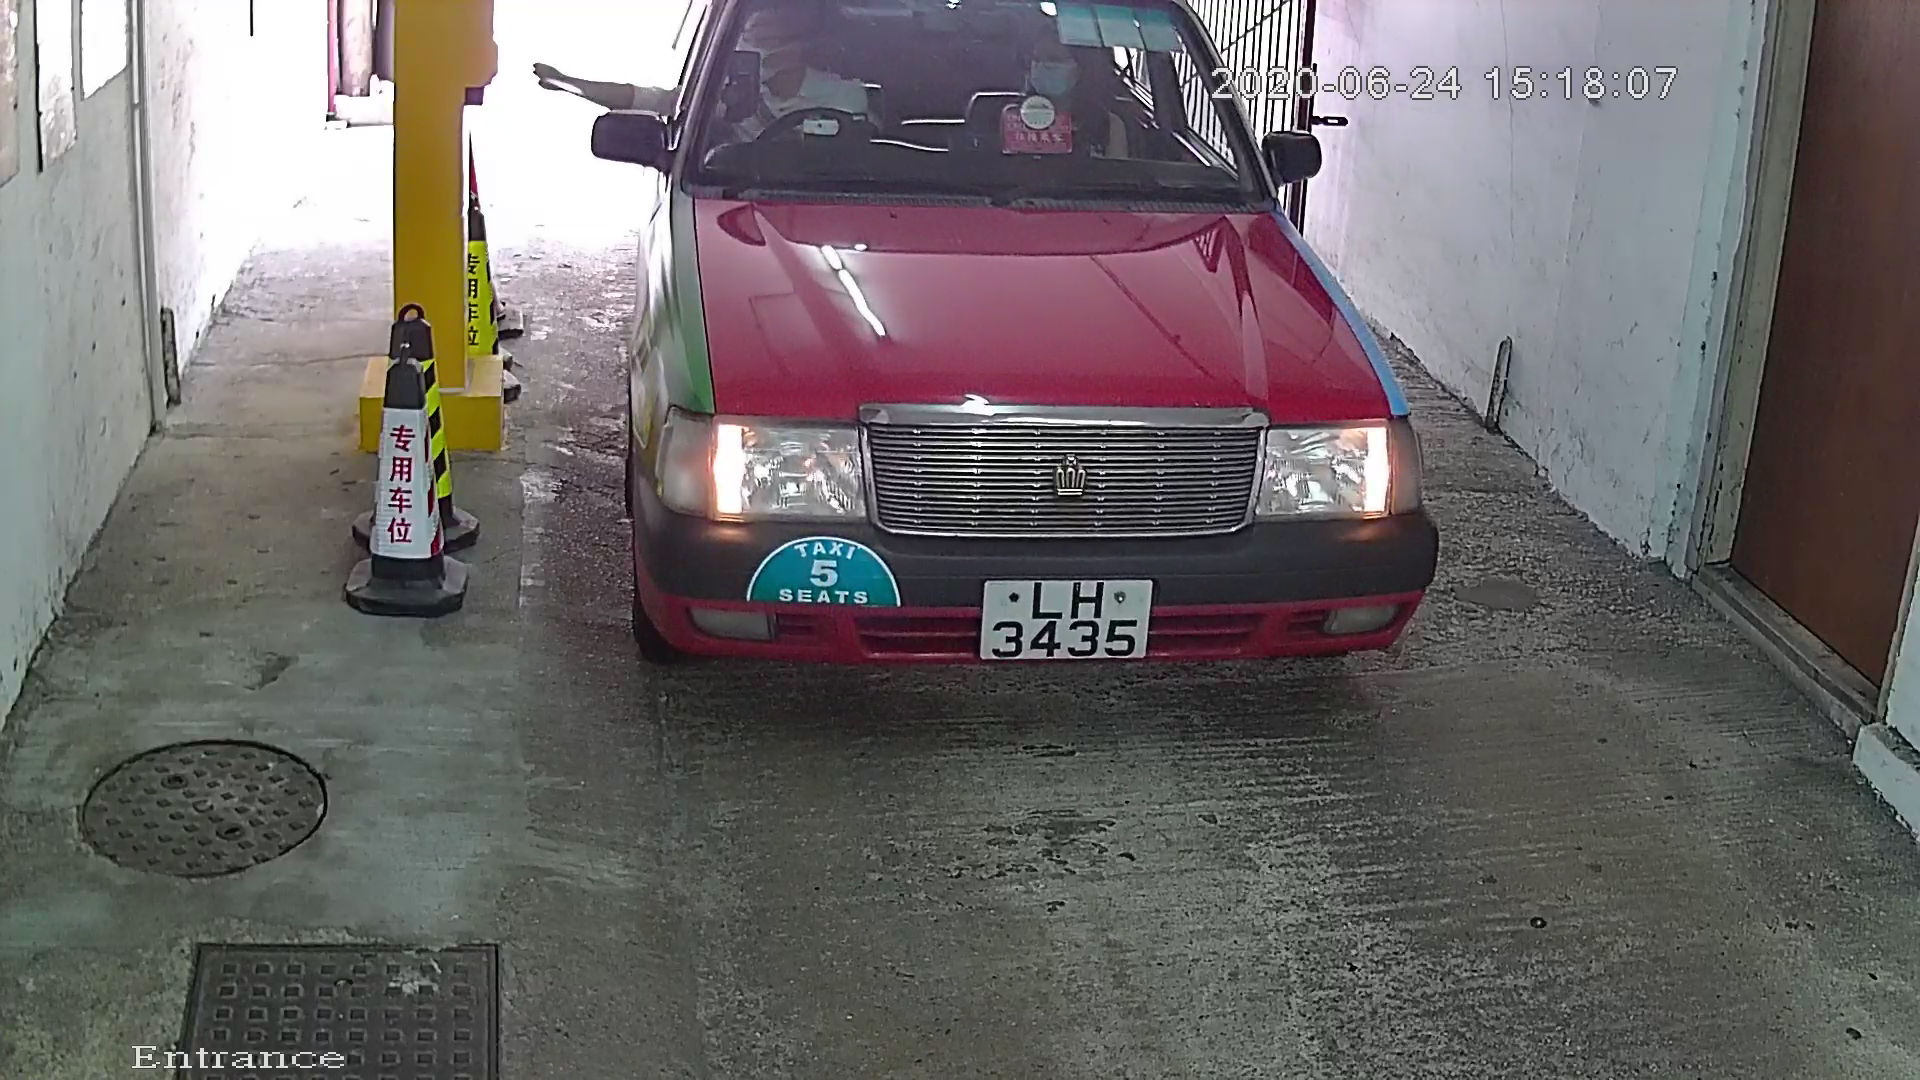Car: (554, 1, 1478, 726)
License Plate: (965, 563, 1162, 672)
